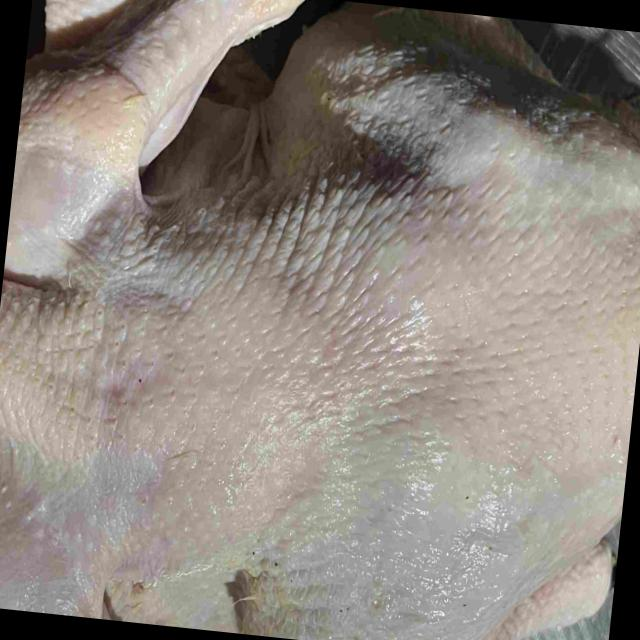back: (0, 190, 640, 532)
leg: (263, 0, 640, 197), (227, 505, 608, 640)
wing: (2, 0, 319, 285), (0, 524, 116, 620)
